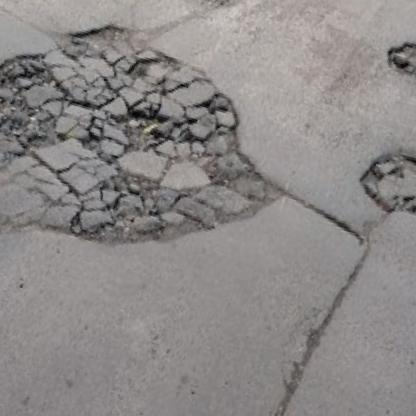pothole: (0, 0, 319, 307), (349, 135, 416, 262), (377, 38, 416, 147), (168, 0, 263, 27)
